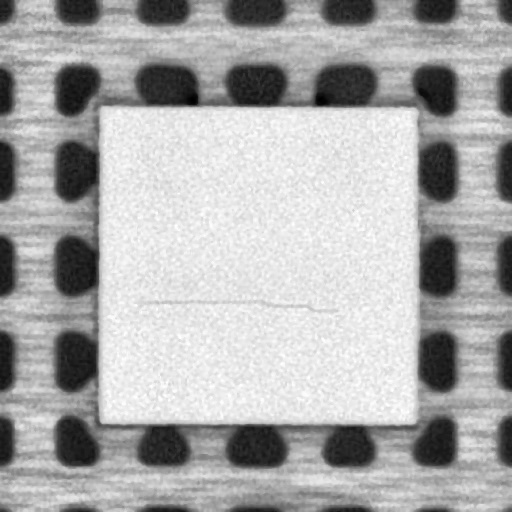DIE_CRACK: (139, 294, 336, 314)
